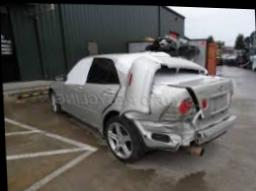Bumper: (130, 110, 235, 147)
Dickey: (169, 72, 233, 116)
Door: (59, 56, 92, 116)
Fender: (122, 82, 187, 122)
Light: (158, 94, 196, 120)
